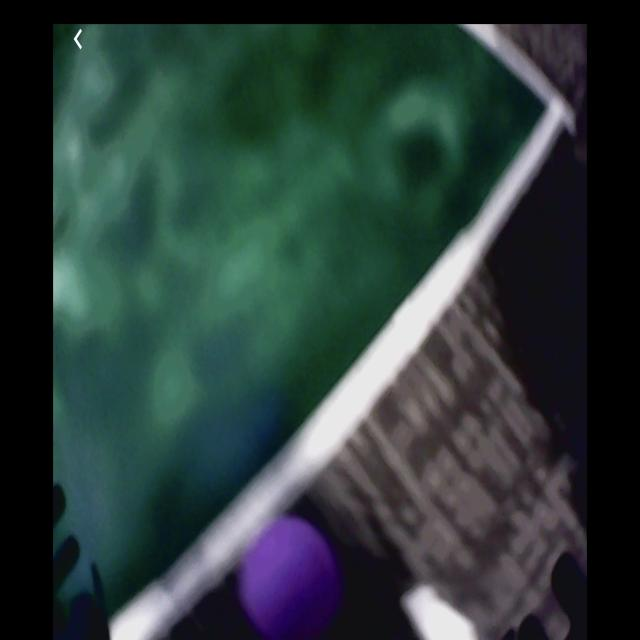ball: (245, 509, 333, 638)
